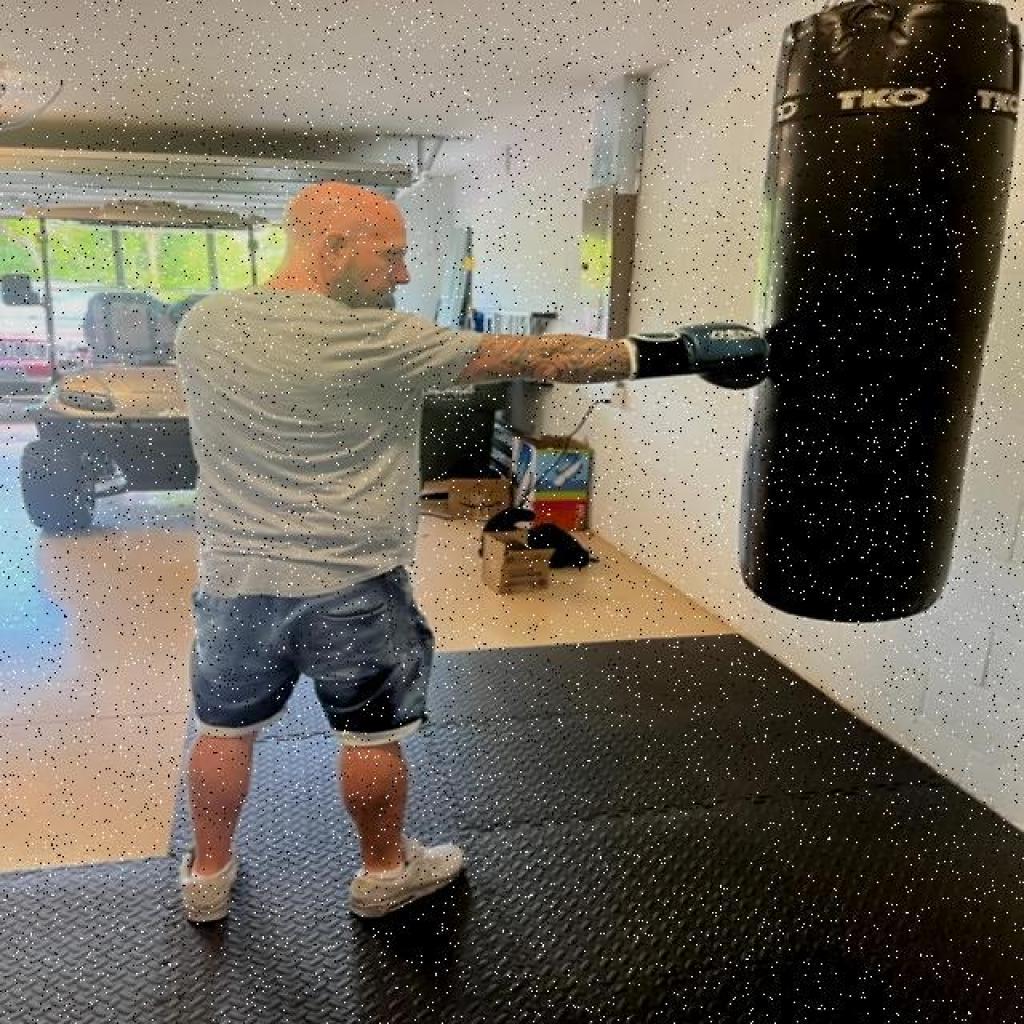jab: (158, 149, 821, 499)
